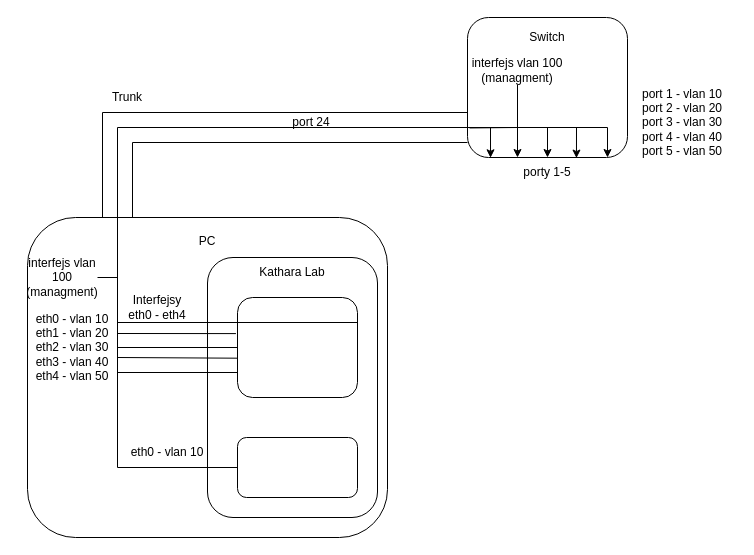
This 754x555 diagram has some shape labels left out. The centre of each missing label's shape, as x and y in pixels:
"Virtual PC1" goes at (297,347).
"Virtual PC2" goes at (297,467).
